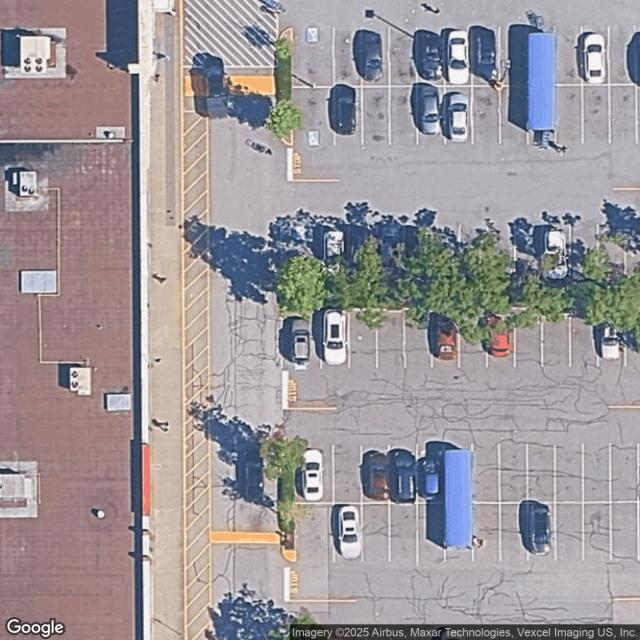car: (527, 499, 553, 555), (473, 25, 498, 83), (542, 223, 568, 278), (391, 448, 416, 504), (434, 311, 460, 364), (321, 310, 346, 364), (445, 28, 469, 84), (300, 450, 325, 502), (358, 29, 383, 80), (443, 91, 469, 140), (332, 84, 356, 136), (486, 314, 512, 361), (337, 504, 359, 559), (366, 450, 390, 500), (288, 316, 311, 368), (418, 454, 442, 503), (582, 32, 605, 82), (418, 30, 441, 80), (419, 82, 440, 136), (323, 226, 345, 272), (600, 323, 620, 363)
lot_boundary: (179, 1, 639, 639)
